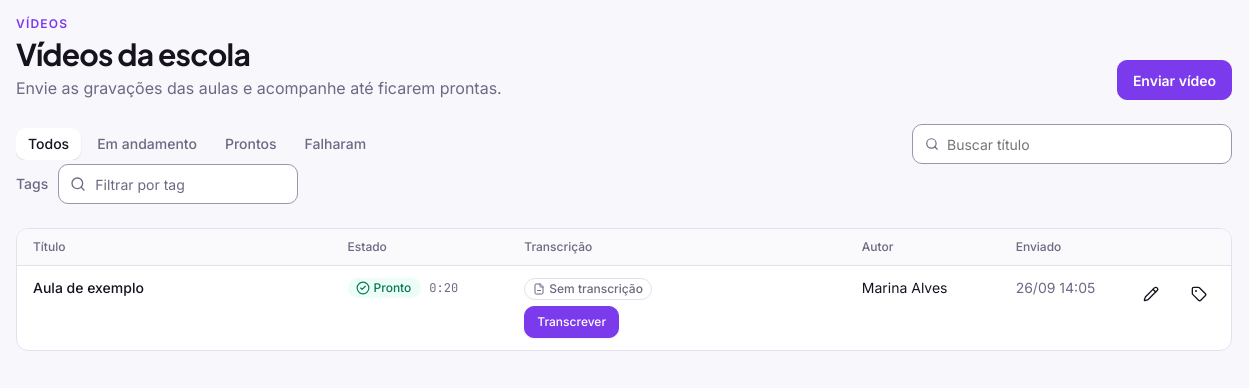
Test: video-transcription-status › polls after an accepted request until ready, announces completion, and stops
Click the button with aria-label "Transcrever Aula de exemplo": (572, 322) [524, 306, 619, 338]
Wait 40000 ms
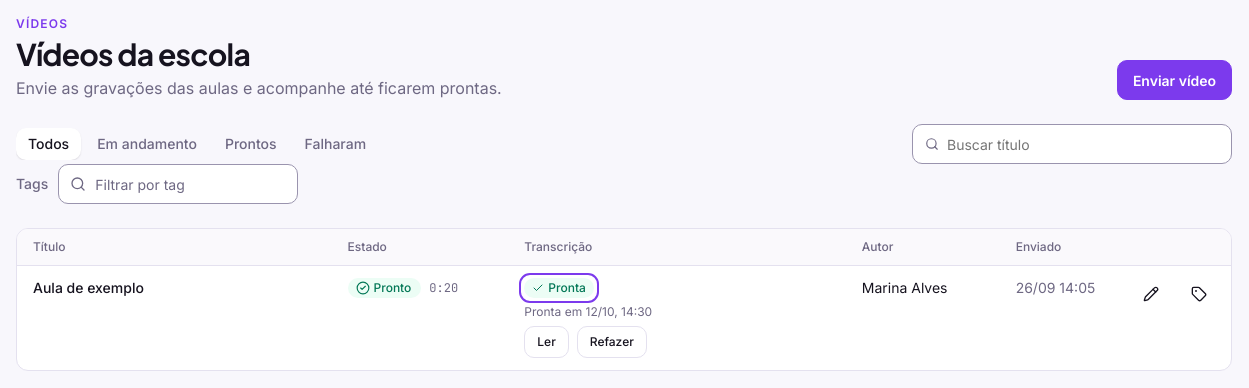
Expected: the text "Pronta" is shown, [524, 278, 594, 298]
